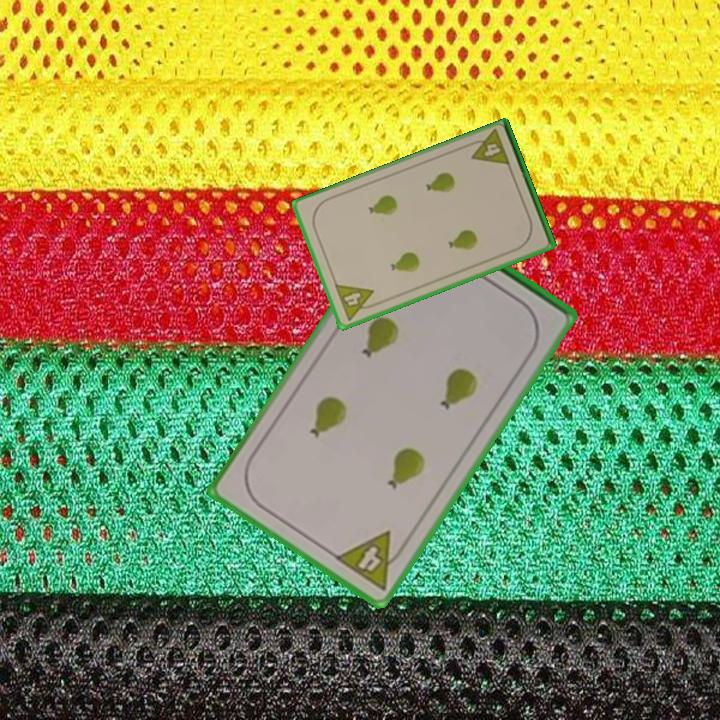4p: (331, 527, 411, 594), (331, 281, 381, 323), (464, 127, 513, 169)
